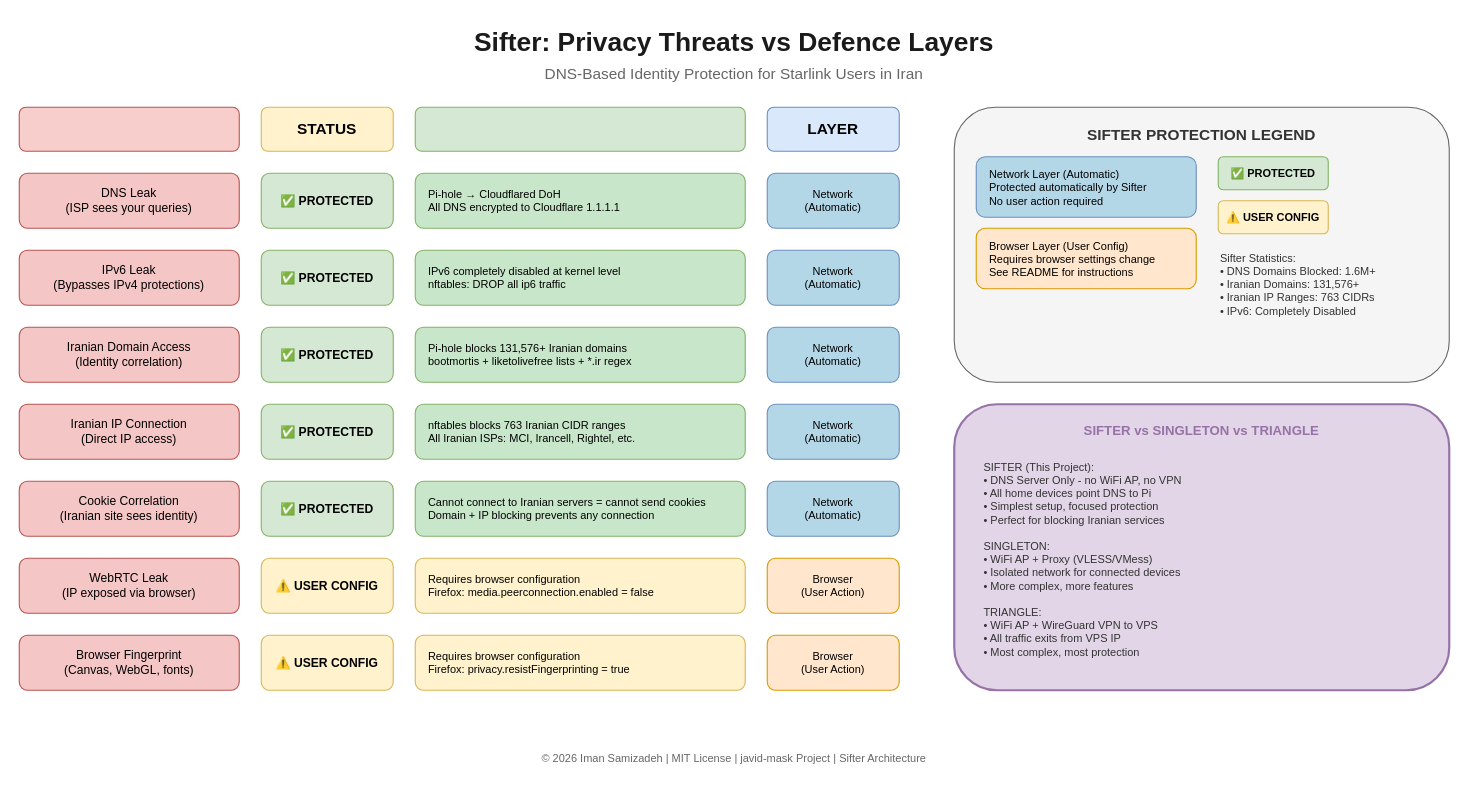
The diagram is 1470 pixels wide and 791 high, and some of its shapes have lost their labels. Here are the shapes that lost their labels. From the top down, the centre of each, then its label:
[128,128]: PRIVACY THREAT
[579,128]: SIFTER DEFENCE
